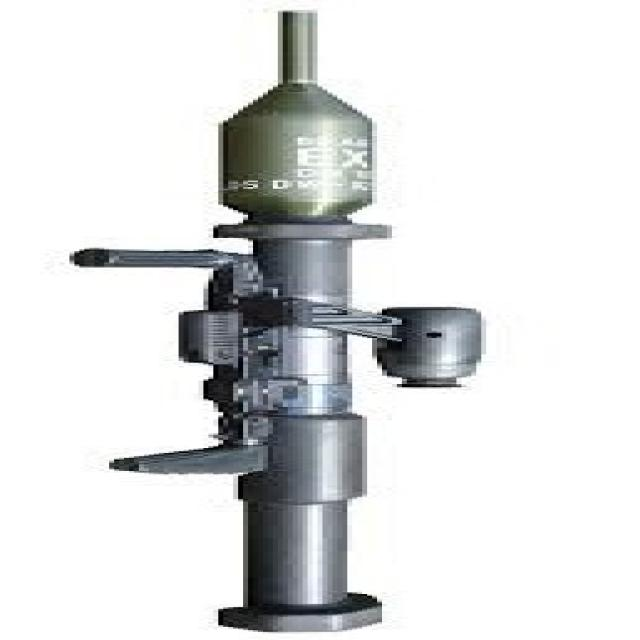bazooka: (31, 1, 525, 640)
